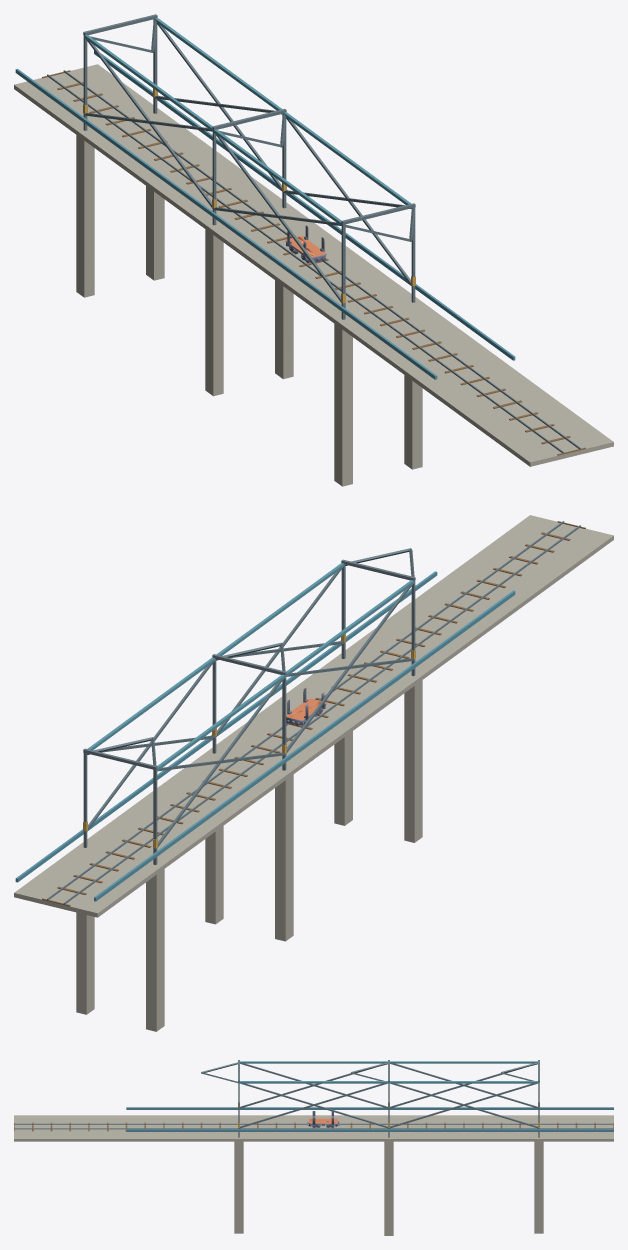
The model's file is railway-1-1.glb.
3 views of the same model, one above another, from view 1: azimuth 30°, elevation 25°; view 2: azimuth 150°, elevation 25°; view 3: azimuth 270°, elevation 25° (orthographic). The views are drawn at different scales.
Visible parts, largest first — view 1: railway-1-1; view 2: railway-1-1; view 3: railway-1-1.
Part boxes in pixels (<box>): railway-1-1: <box>14,14,613,486</box>; railway-1-1: <box>14,515,613,1031</box>; railway-1-1: <box>14,1060,613,1235</box>.
Size of the model in its own units: 12 by 36.3 by 128.
Materials: 10 (3 with a texture image).
